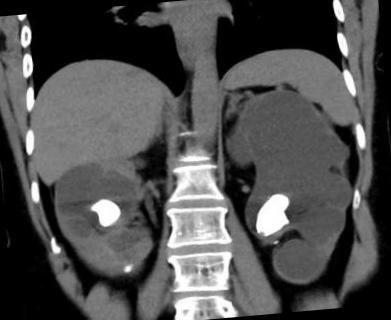Tas_Var: (252, 192, 292, 241), (90, 194, 126, 234), (121, 262, 136, 277), (272, 239, 281, 247)
